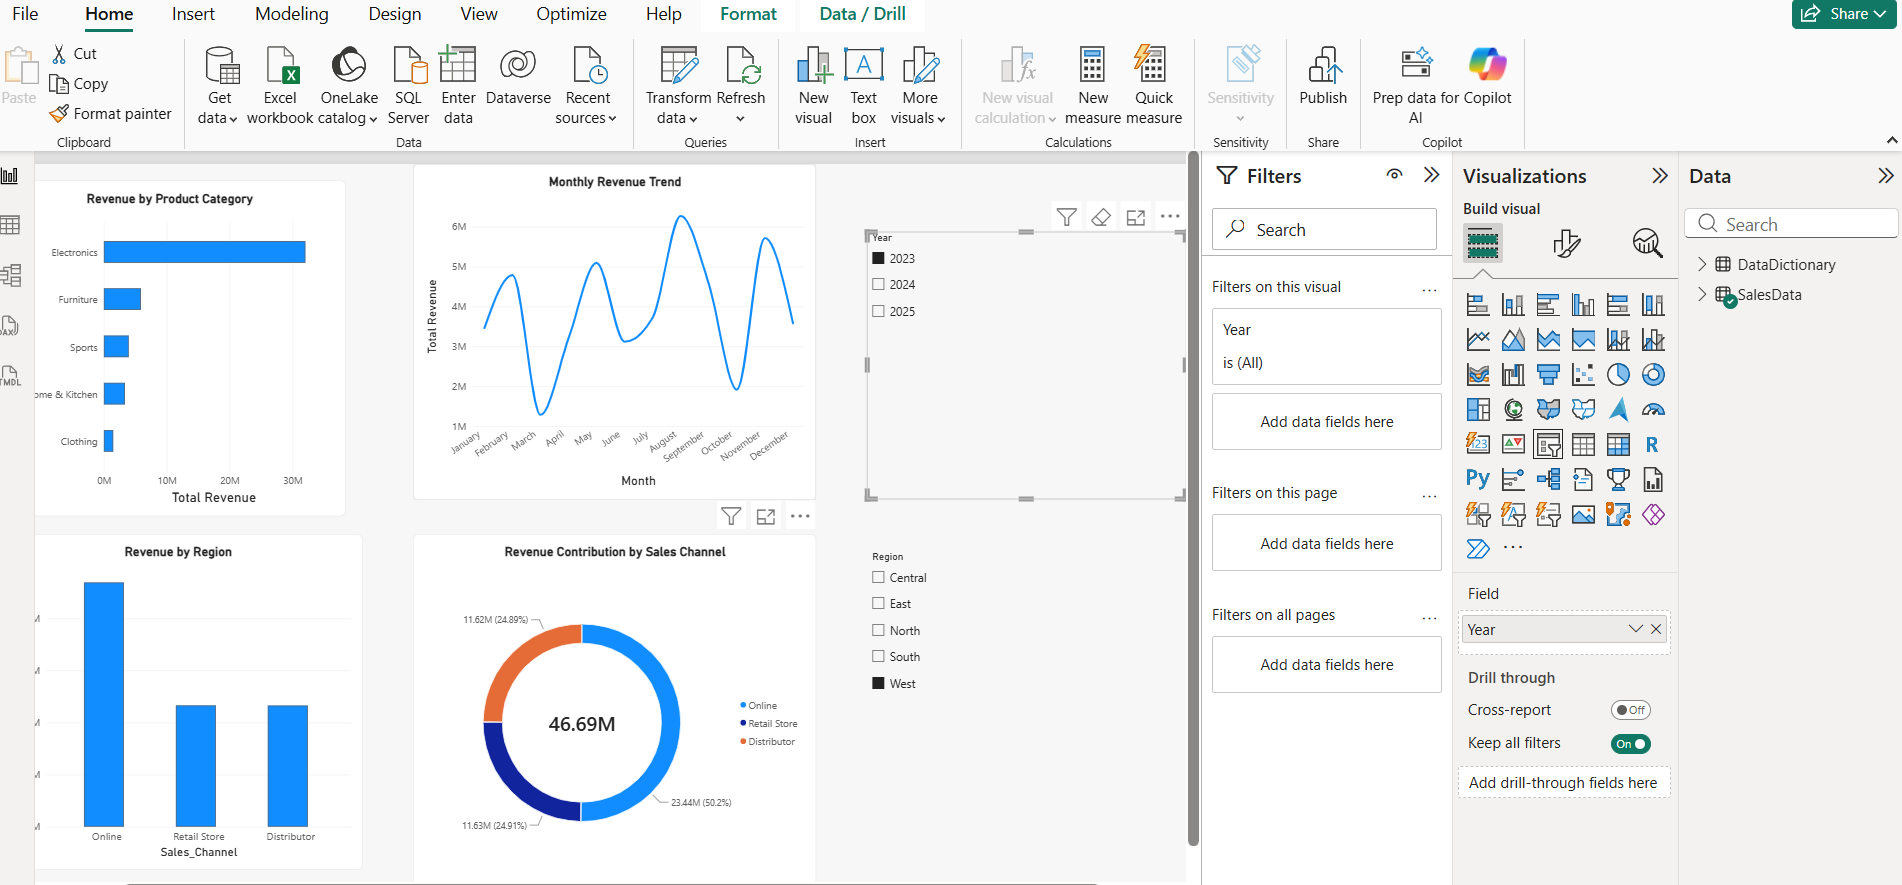

The page's visual inventory and layout, read from the dashboard file:
{"tool":"powerbi","page":{"name":"Page 1","canvas":[1920,1080],"ordinal":0},"visuals":[{"type":"clusteredBarChart","title":"Revenue by Product Category","fields":{"Category":["SalesData.Product_Category"],"Y":["SalesData.Total Revenue"]},"box":[72,24,480,480],"z":0},{"type":"lineChart","title":"Monthly Revenue Trend","fields":{"Category":["SalesData.Order_Date.Variation.Date Hierarchy.Month"],"Y":["SalesData.Total Revenue"]},"box":[672,0,576,480],"z":1},{"type":"clusteredColumnChart","title":"Revenue by Region","fields":{"Category":["SalesData.Sales_Channel"],"Y":["SalesData.Total Revenue"]},"box":[48,528,528,480],"z":2},{"type":"donutChart","title":"Revenue Contribution by Sales Channel","fields":{"Category":["SalesData.Sales_Channel"],"Y":["SalesData.Total Revenue"]},"box":[672,528,576,504],"z":3},{"type":"slicer","fields":{"Values":["SalesData.Year"]},"box":[1320,96,456,384],"z":4},{"type":"slicer","fields":{"Values":["SalesData.Region"]},"box":[1320,552,408,456],"z":5}]}

Visuals, with their boxes on the page's 1920x1080 design canvas (x1, y1, x2, y2). These are canvas units, not pixel positions in the 1902x885 screenshot, which may show the page scaled, cropped or inside an application window:
"Revenue by Product Category" clusteredBarChart: locate(72, 24, 552, 504)
"Monthly Revenue Trend" lineChart: locate(672, 0, 1248, 480)
"Revenue by Region" clusteredColumnChart: locate(48, 528, 576, 1008)
"Revenue Contribution by Sales Channel" donutChart: locate(672, 528, 1248, 1032)
slicer - SalesData.Year: locate(1320, 96, 1776, 480)
slicer - SalesData.Region: locate(1320, 552, 1728, 1008)
